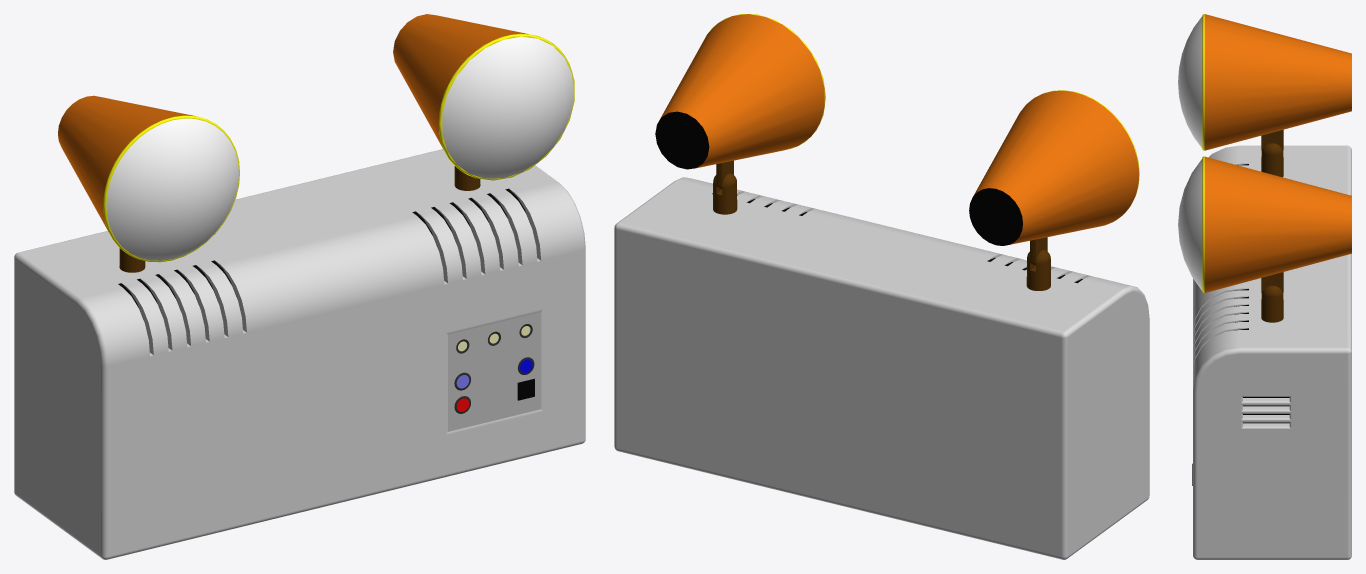
File: LucesEmergencia.fbx
3 views of the same model, side by side, from view 1: azimuth 30°, elevation 25°; view 2: azimuth 150°, elevation 25°; view 3: azimuth 270°, elevation 25° (orthographic). The views are drawn at different scales.
Parts seen in each view (by area): view 1: Fillet36, Dome1; view 2: Fillet36, Dome1; view 3: Fillet36, Dome1.
Part boxes in pixels (x1=…): Fillet36: x1=14, y1=14, x2=585, y2=559; Dome1: x1=58, y1=95, x2=239, y2=262; Fillet36: x1=614, y1=14, x2=1149, y2=559; Dome1: x1=969, y1=90, x2=1139, y2=245; Fillet36: x1=1178, y1=129, x2=1351, y2=559; Dome1: x1=1178, y1=14, x2=1351, y2=150.
Bounding box in the file's own units: 10.24 × 8.53 × 3.66.
